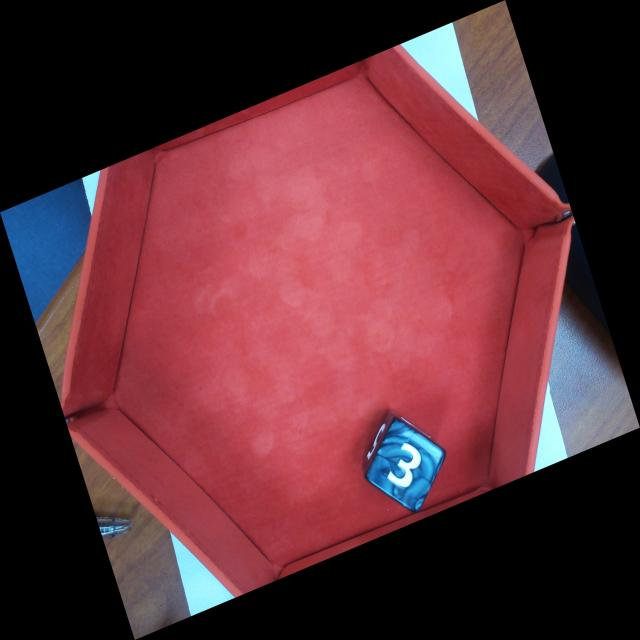dice: (366, 418, 443, 512)
